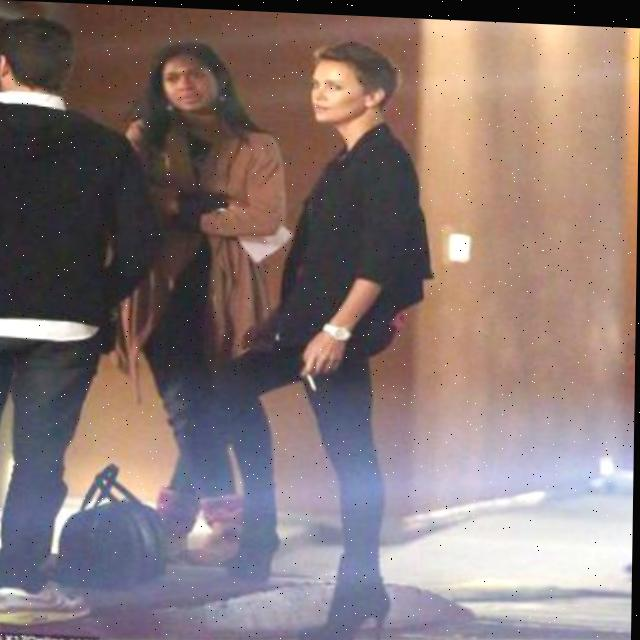cigarette: (308, 371, 318, 387)
